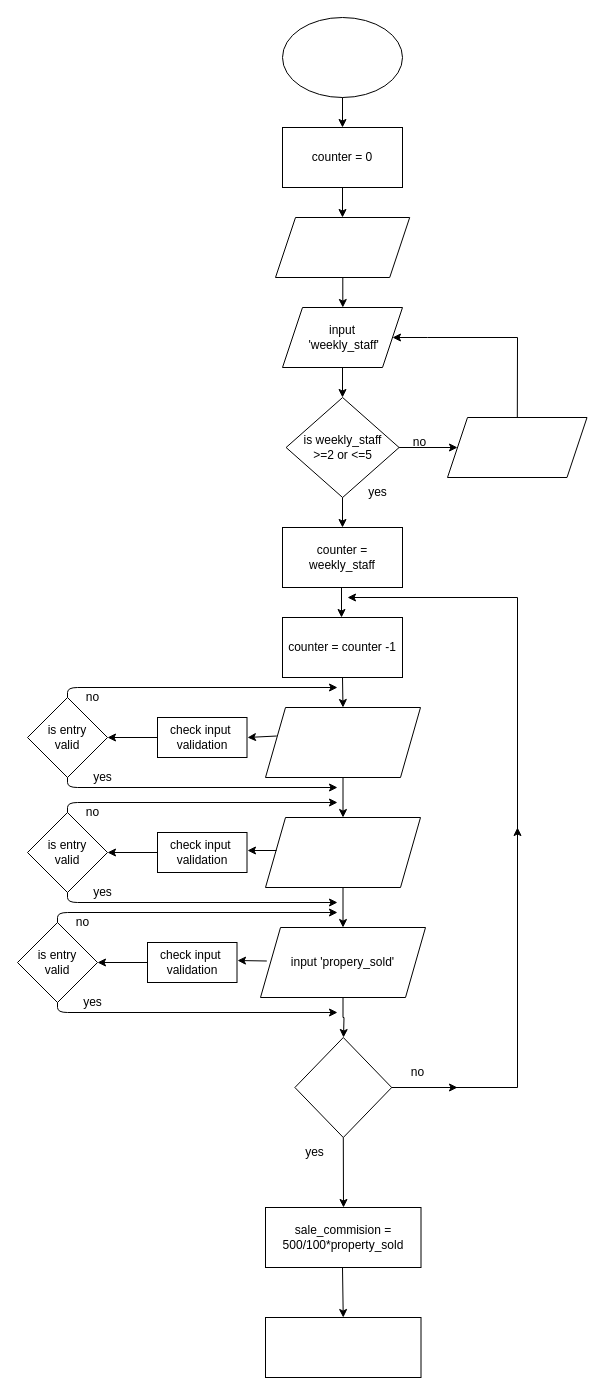
Image size: 605x1395. Some labels were removed from this diagram. Each missing label, with the centre of its shape:
input 'employee _id': (x=342, y=852)
input 'employee _name': (x=342, y=742)
output "enter the amount of staff working this week": (x=342, y=247)
output "re-enter the amount of staff working this week": (x=516, y=447)
start: (x=342, y=57)
total_commision = property_sold * 500: (x=342, y=1347)
while counter == 0: (x=343, y=1087)
